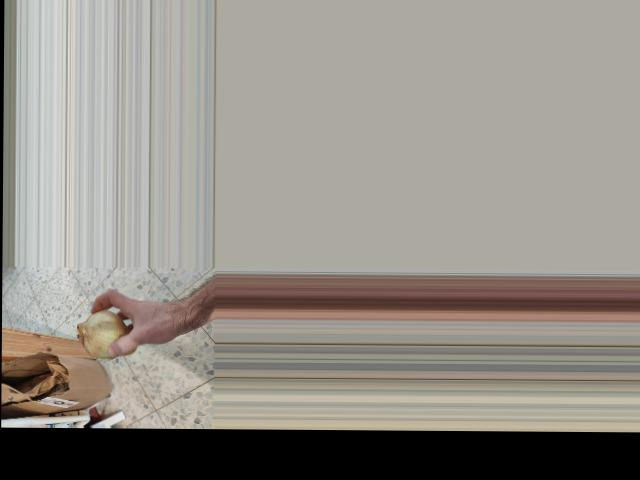onion: (75, 304, 142, 363)
